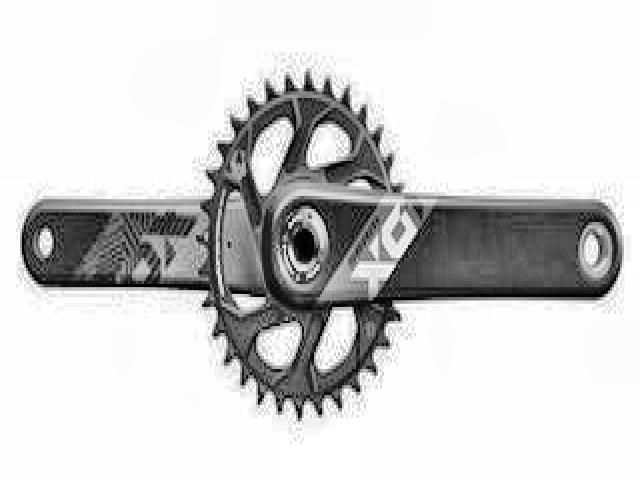cranks_set: (198, 68, 624, 424)
